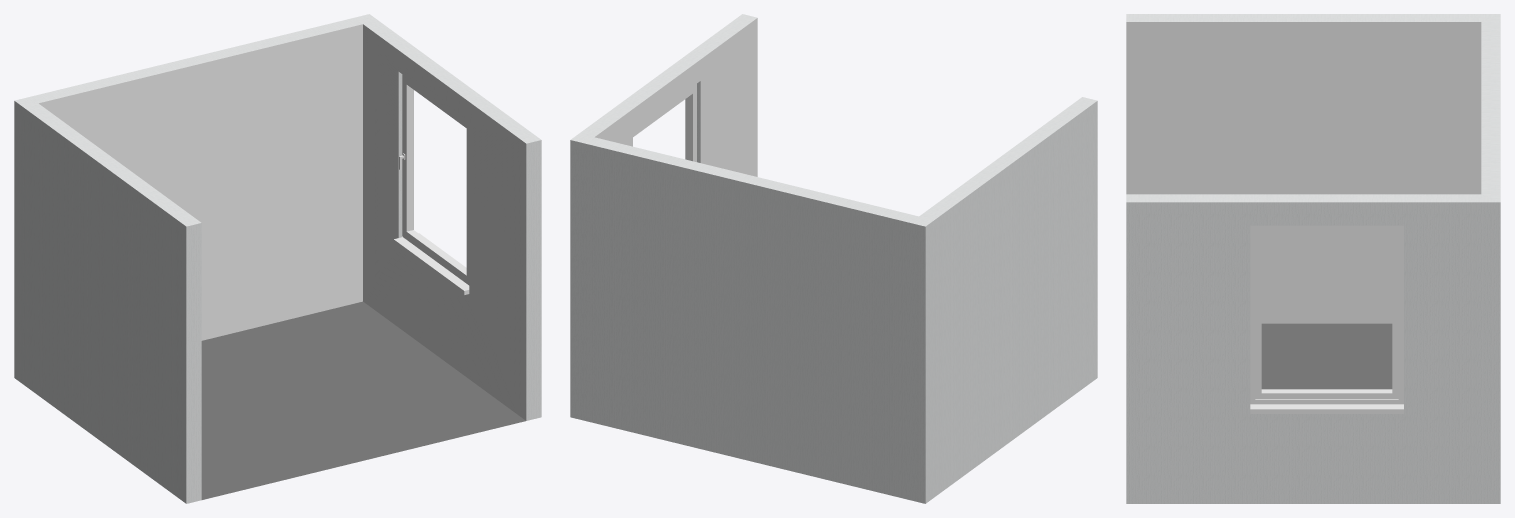
File: habitacioncolores.glb
3 views of the same model, side by side, from view 1: azimuth 30°, elevation 25°; view 2: azimuth 150°, elevation 25°; view 3: azimuth 270°, elevation 25° (orthographic). The views are drawn at different scales.
Size of what is drawn, in the model's own units: 3.53 by 2.6 by 2.92.
6 materials, 1 textured.
